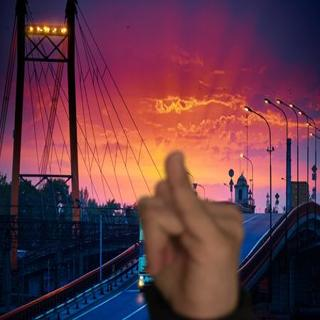HAVE: (133, 151, 253, 313)
